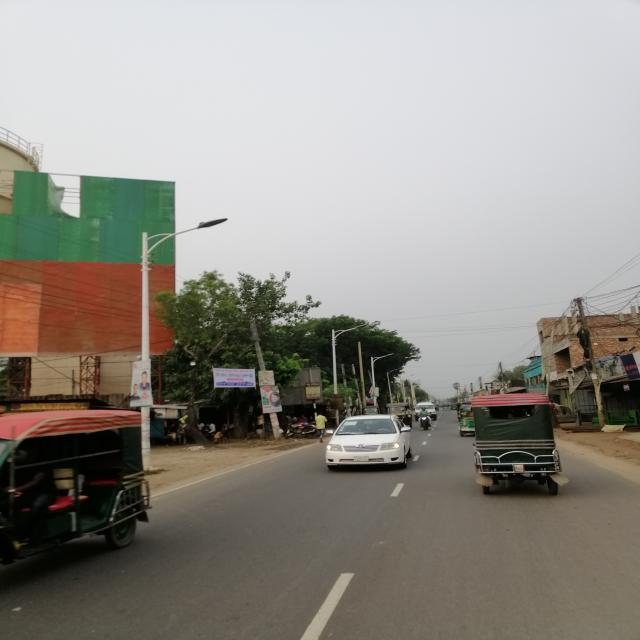Car: (324, 413, 421, 470)
